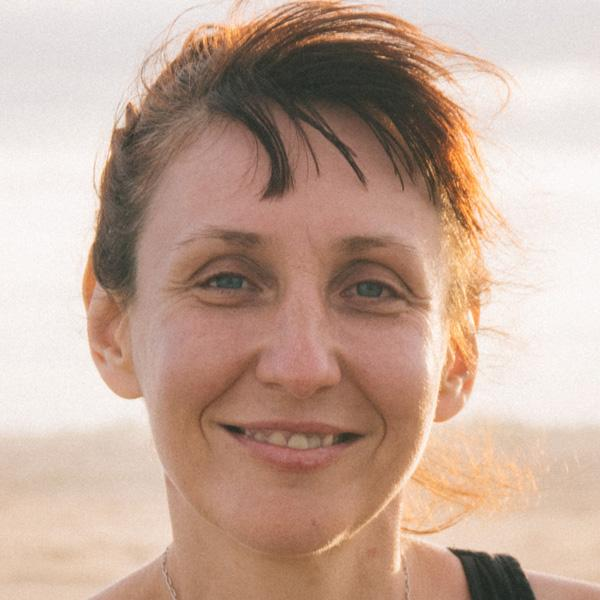Eyes: (326, 256, 418, 319), (181, 247, 269, 311)
